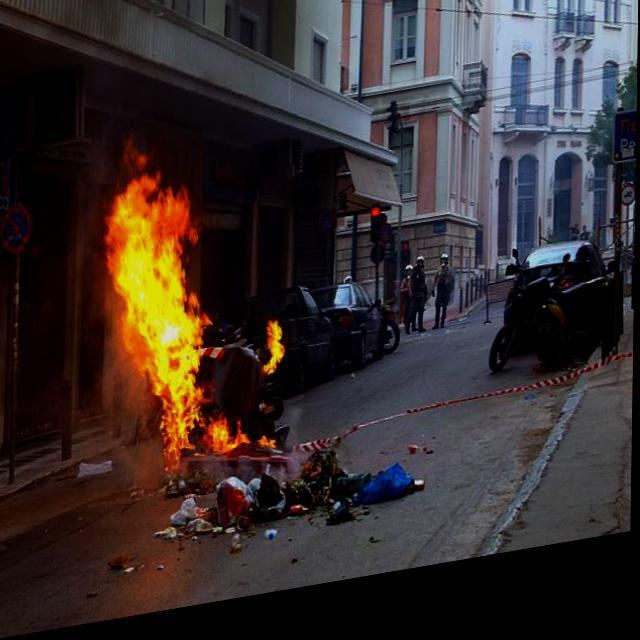Fire: (104, 126, 296, 489)
